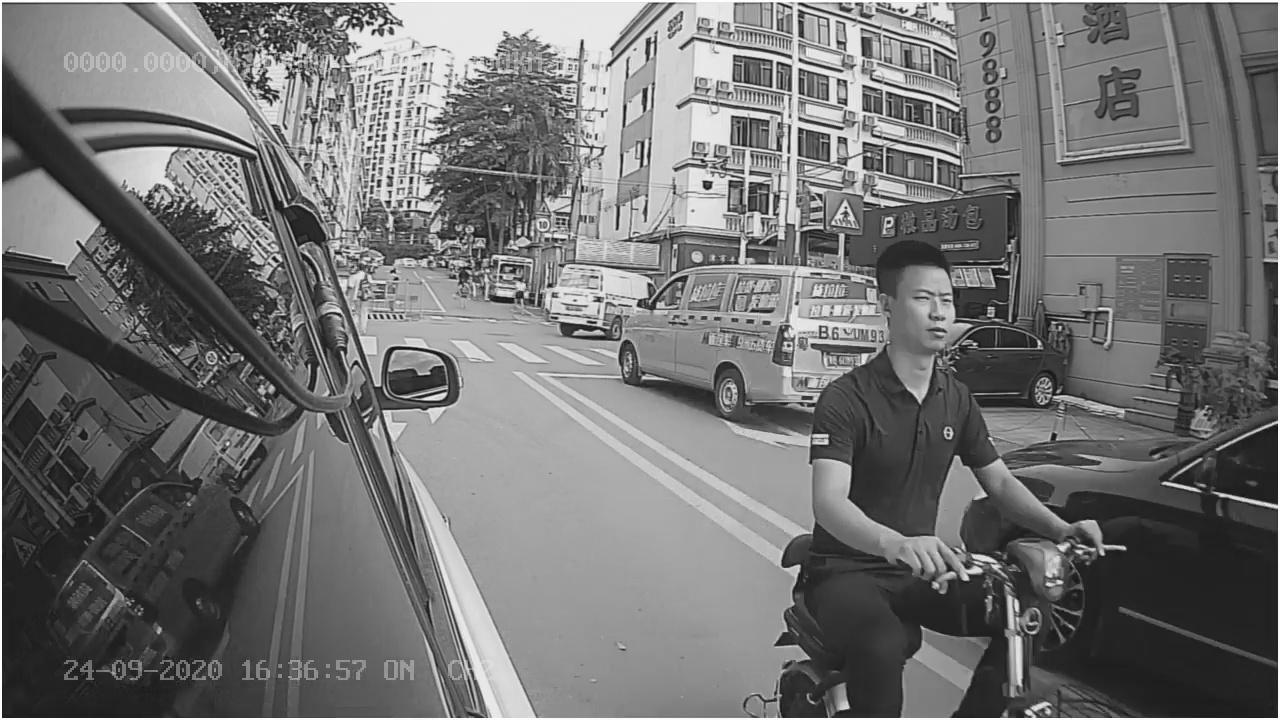person: (775, 249, 1080, 714)
